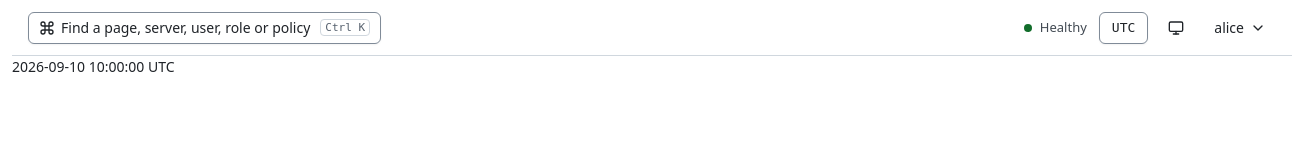
Test case: the app header › flips every absolute stamp between the UTC suffix and the local offset
Expected: the text "2026-09-10 10:00:00 UTC" is shown, [12,57,174,76]
Click the button "UTC".
click(1124, 28)  # box [1099,12,1148,44]
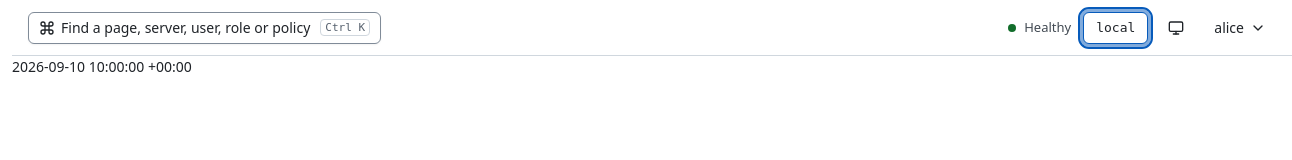
Expected: the button "local" is shown
Click the button "local".
click(1116, 28)  # box [1083,12,1148,44]
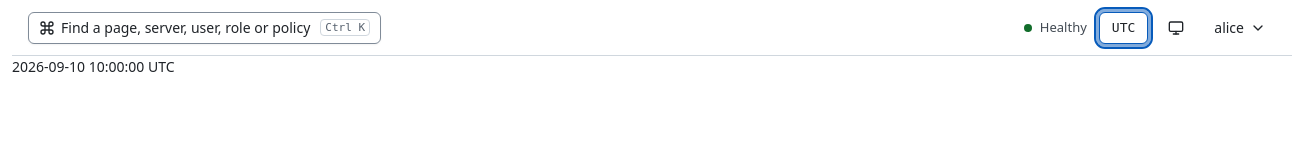
Expected: the text "2026-09-10 10:00:00 UTC" is shown, [12,57,174,76]
